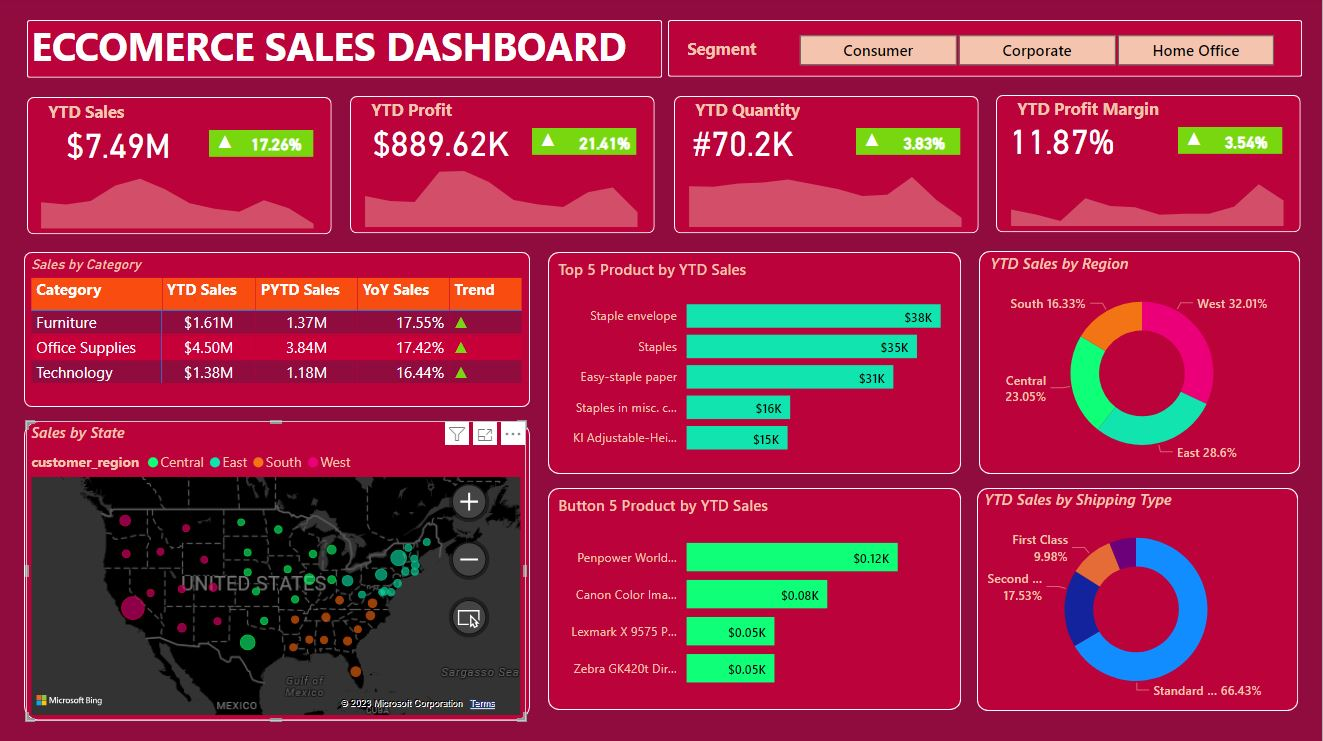

The dashboard page shown, as its layout file describes it:
{"tool":"powerbi","page":{"name":"Page 1","canvas":[1280,720],"ordinal":0},"visuals":[{"type":"shape","box":[25.8,21.8,614.6,55.5],"z":0},{"type":"textbox","box":[25.5,17,607,65.9],"z":1000},{"type":"shape","box":[25.8,97.2,295.4,132.8],"z":2000},{"type":"card","fields":{"Values":["ecommerce_data.YTD"]},"box":[41.5,119.1,145.6,44.7],"z":3000},{"type":"areaChart","fields":{"Category":["Calender.Month"],"Y":["Sum(ecommerce_data.sales_per_order)"]},"box":[25.5,141.4,293.4,88.2],"z":4000},{"type":"shape","box":[202,128.6,101,25.5],"z":5000},{"type":"card","fields":{"Values":["ecommerce_data.YoY Sales"]},"box":[232.8,128.6,70.2,25.5],"z":6000},{"type":"card","fields":{"Values":["ecommerce_data.Sales Icon"]},"box":[202,126.5,30.8,28.7],"z":7000},{"type":"textbox","box":[41.5,94.6,104.2,31.9],"z":8000},{"type":"shape","box":[339.1,95.7,295.4,132.8],"z":9000},{"type":"card","fields":{"Values":["ecommerce_data.YTD Profit"]},"box":[339.1,117,176.5,44.7],"z":10000},{"type":"areaChart","fields":{"Category":["Calender.Month"],"Y":["Sum(ecommerce_data.profit_per_order)"]},"box":[339.1,153.2,293.4,75.5],"z":11000},{"type":"shape","box":[515.3,127.2,101,25.5],"z":12000},{"type":"card","fields":{"Values":["ecommerce_data.YoY Profit"]},"box":[553.8,127.6,62.7,25.5],"z":13000},{"type":"card","fields":{"Values":["ecommerce_data.Profit Icon"]},"box":[515.3,125,30.8,28.7],"z":14000},{"type":"textbox","box":[354.8,93.1,104.2,31.9],"z":15000},{"type":"shape","box":[652.7,95.7,295.4,132.8],"z":16000},{"type":"card","fields":{"Values":["ecommerce_data.YTD Concatenated Qty"]},"box":[653.8,116.9,131.8,44.7],"z":17000},{"type":"areaChart","fields":{"Category":["Calender.Month"],"Y":["Sum(ecommerce_data.order_quantity)"]},"box":[652.7,153.2,293.4,75.5],"z":18000},{"type":"shape","box":[828.9,127.2,101,25.5],"z":19000},{"type":"card","fields":{"Values":["ecommerce_data.YoY Qty"]},"box":[860.1,127.6,70.2,25.5],"z":20000},{"type":"card","fields":{"Values":["ecommerce_data.Qty Icon"]},"box":[828.9,125,30.8,28.7],"z":21000},{"type":"textbox","box":[668.2,93.2,176.5,31.9],"z":22000},{"type":"shape","box":[964.3,94.7,295.4,132.8],"z":23000},{"type":"card","fields":{"Values":["ecommerce_data.YTD Profit Margin"]},"box":[962.3,115.2,131.8,44.7],"z":24000},{"type":"areaChart","fields":{"Category":["Calender.Month"],"Y":["ecommerce_data.Profit Margin"]},"box":[964.3,152.2,293.4,75.5],"z":25000},{"type":"shape","box":[1140.5,126.2,101,25.5],"z":26000},{"type":"card","fields":{"Values":["ecommerce_data.YoY Profit Margin"]},"box":[1171.6,126.5,70.2,25.5],"z":27000},{"type":"card","fields":{"Values":["ecommerce_data.Profit Margin Icon"]},"box":[1140.5,124.1,30.8,28.7],"z":28000},{"type":"textbox","box":[979.8,92.2,176.5,31.9],"z":29000},{"type":"shape","box":[23.4,246.7,490,150],"z":30000},{"type":"pivotTable","title":"Sales by Category","fields":{"Rows":["ecommerce_data.category_name"],"Values":["ecommerce_data.YTD Sales","ecommerce_data.PYTD Sales","ecommerce_data.YoY Sales","ecommerce_data.Sales Icon"]},"box":[25.5,252,490.1,139.3],"z":31000},{"type":"shape","box":[23.4,410.4,490.1,290.2],"z":32000},{"type":"map","title":"Sales by State","fields":{"Y":["us_state_long_lat_codes.latitude"],"X":["us_state_long_lat_codes.longitude"],"Series":["ecommerce_data.customer_region"],"Size":["ecommerce_data.YTD Sales"]},"box":[25.5,410.4,483.7,290.2],"z":33000},{"type":"shape","box":[530.5,246.6,399.7,215],"z":34000},{"type":"shape","box":[530.5,475.2,399.7,215],"z":35000},{"type":"barChart","title":"Top 5 Product by YTD Sales ","fields":{"Category":["ecommerce_data.product_name"],"Y":["ecommerce_data.YTD Sales"]},"box":[535.3,252.6,389.6,203.4],"z":36000},{"type":"barChart","title":"Button 5 Product by YTD Sales ","fields":{"Category":["ecommerce_data.product_name"],"Y":["ecommerce_data.YTD Sales"]},"box":[535.3,481,389.6,203.4],"z":37000},{"type":"shape","box":[948.3,245.6,311.5,215.8],"z":38000},{"type":"shape","box":[946.2,475.2,311.5,215.8],"z":39000},{"type":"donutChart","title":"YTD Sales by Region","fields":{"Category":["ecommerce_data.customer_region"],"Y":["ecommerce_data.YTD Sales"]},"box":[953.6,246.6,304.1,214.8],"z":40000},{"type":"donutChart","title":"YTD Sales by Shipping Type","fields":{"Y":["ecommerce_data.YTD Sales"],"Category":["ecommerce_data.shipping_type"]},"box":[948.3,475.2,304.1,214.8],"z":41000},{"type":"shape","box":[646.4,22.3,614.5,55.3],"z":42000},{"type":"slicer","fields":{"Values":["ecommerce_data.customer_segment"]},"box":[748.4,29.8,509.2,40.4],"z":43000},{"type":"textbox","box":[660.2,34,118,31.9],"z":44000}]}

Visuals, with their boxes in screenshot pixels (x1, y1, x2, y2), scaled from the page's 1280x720 canvas onto the 1323x741 screenshot:
shape: [27, 22, 662, 80]
textbox: [26, 17, 654, 85]
shape: [27, 100, 332, 237]
card - ecommerce_data.YTD: [43, 123, 193, 169]
areaChart - Calender.Month x Sum(ecommerce_data.sales_per_order): [26, 146, 330, 236]
shape: [209, 132, 313, 159]
card - ecommerce_data.YoY Sales: [241, 132, 313, 159]
card - ecommerce_data.Sales Icon: [209, 130, 241, 160]
textbox: [43, 97, 151, 130]
shape: [350, 98, 656, 235]
card - ecommerce_data.YTD Profit: [350, 120, 533, 166]
areaChart - Calender.Month x Sum(ecommerce_data.profit_per_order): [350, 158, 654, 235]
shape: [533, 131, 637, 157]
card - ecommerce_data.YoY Profit: [572, 131, 637, 158]
card - ecommerce_data.Profit Icon: [533, 129, 564, 158]
textbox: [367, 96, 474, 129]
shape: [675, 98, 980, 235]
card - ecommerce_data.YTD Concatenated Qty: [676, 120, 812, 166]
areaChart - Calender.Month x Sum(ecommerce_data.order_quantity): [675, 158, 978, 235]
shape: [857, 131, 961, 157]
card - ecommerce_data.YoY Qty: [889, 131, 962, 158]
card - ecommerce_data.Qty Icon: [857, 129, 889, 158]
textbox: [691, 96, 873, 129]
shape: [997, 97, 1302, 234]
card - ecommerce_data.YTD Profit Margin: [995, 119, 1131, 165]
areaChart - Calender.Month x ecommerce_data.Profit Margin: [997, 157, 1300, 234]
shape: [1179, 130, 1283, 156]
card - ecommerce_data.YoY Profit Margin: [1211, 130, 1284, 156]
card - ecommerce_data.Profit Margin Icon: [1179, 128, 1211, 157]
textbox: [1013, 95, 1195, 128]
shape: [24, 254, 531, 408]
"Sales by Category" pivotTable: [26, 259, 533, 403]
shape: [24, 422, 531, 721]
"Sales by State" map: [26, 422, 526, 721]
shape: [548, 254, 961, 475]
shape: [548, 489, 961, 710]
"Top 5 Product by YTD Sales " barChart: [553, 260, 956, 469]
"Button 5 Product by YTD Sales " barChart: [553, 495, 956, 704]
shape: [980, 253, 1302, 475]
shape: [978, 489, 1300, 711]
"YTD Sales by Region" donutChart: [986, 254, 1300, 475]
"YTD Sales by Shipping Type" donutChart: [980, 489, 1294, 710]
shape: [668, 23, 1303, 80]
slicer - ecommerce_data.customer_segment: [774, 31, 1300, 72]
textbox: [682, 35, 804, 68]
